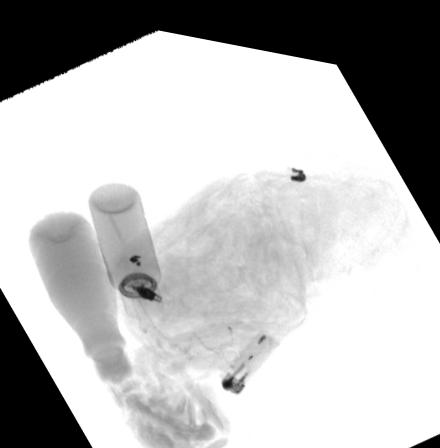Lighter: (219, 317, 278, 384)
Sprayer: (86, 178, 163, 314)
